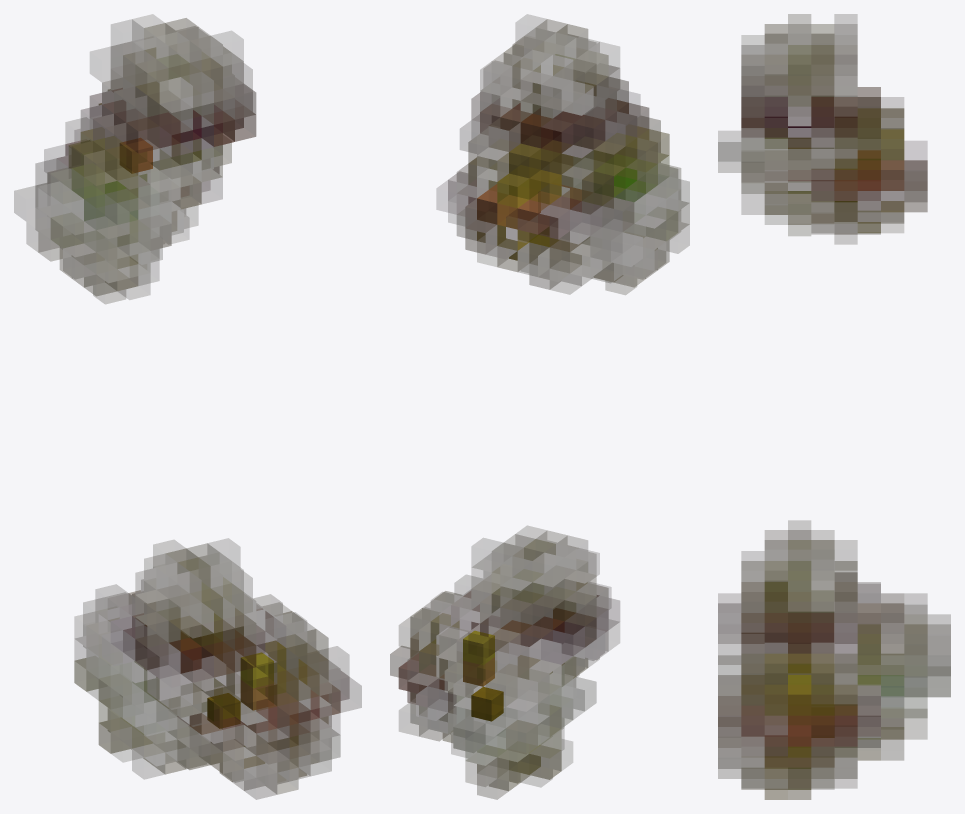
Rendered from iter_10.obj.
3 renders of one model, left to right at view 1: azimuth 30°, elevation 25°; view 2: azimuth 150°, elevation 25°; view 3: azimuth 270°, elevation 25°, orthographic. The views are drawn at different scales.
Visible parts, largest first — view 1: iter_10; view 2: iter_10; view 3: iter_10.
Part boxes in pixels (x1,y1,x2,y2): iter_10: [14, 14, 361, 799]; iter_10: [390, 14, 689, 799]; iter_10: [718, 14, 950, 799].
Bounding box in the file's own units: 1.3 × 3.4 × 1.
